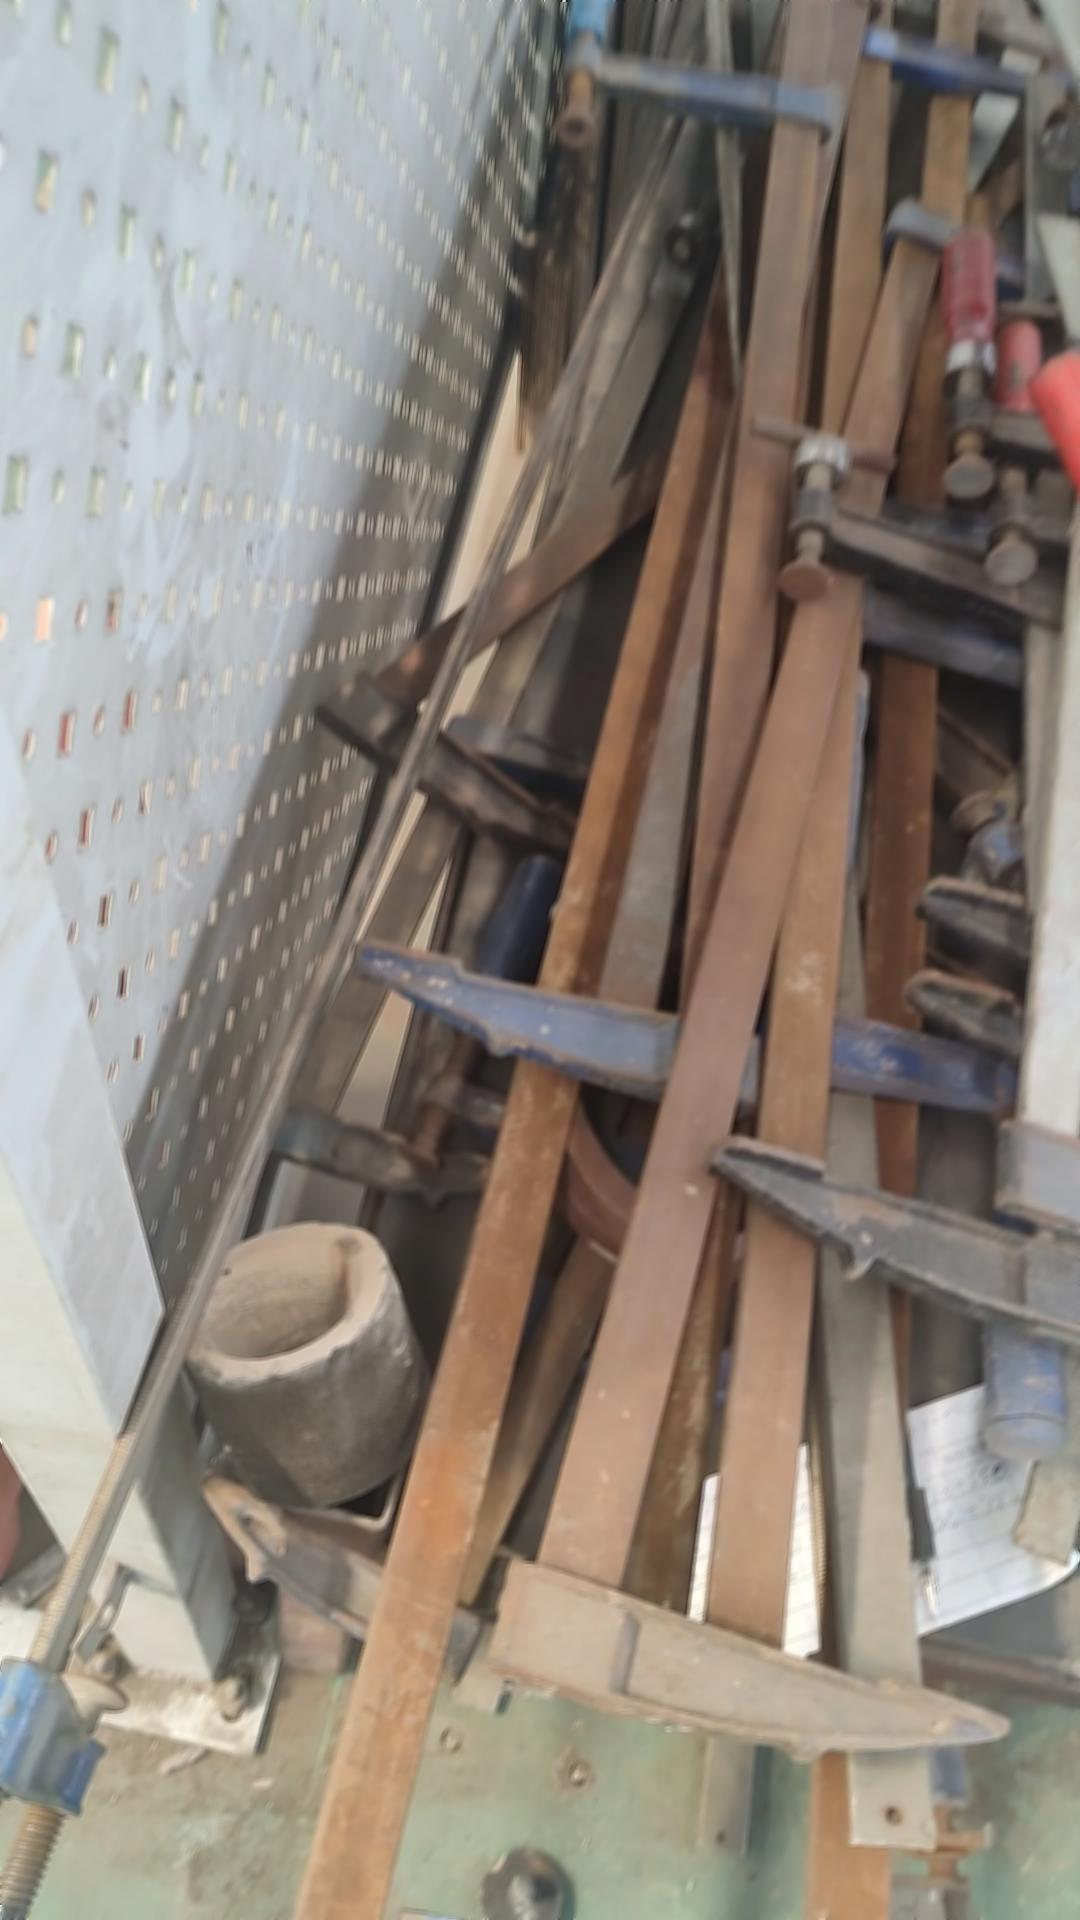pouring hole: (182, 1221, 386, 1374)
